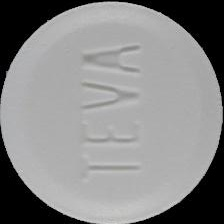54458-865: (0, 0, 224, 224)
